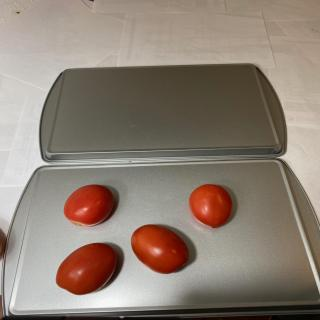Tomato: (56, 243, 117, 295), (131, 224, 189, 274), (63, 184, 114, 227), (188, 184, 233, 228)
